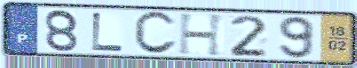2: (227, 14, 271, 58)
8: (44, 8, 80, 53)
9: (276, 15, 317, 60)
C: (132, 10, 179, 56)
H: (176, 12, 228, 58)
L: (90, 11, 127, 53)
